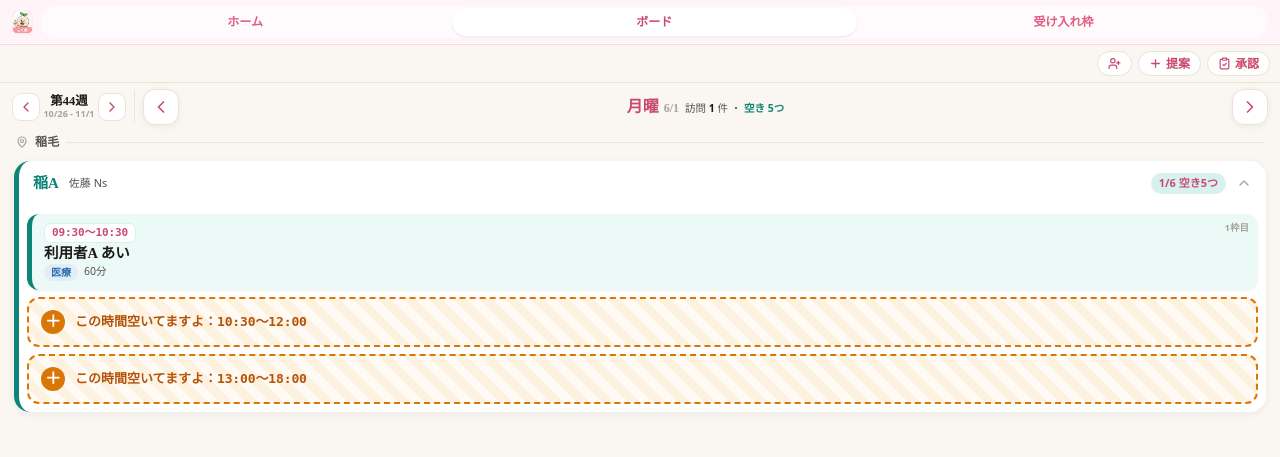
Test case: /m 現場ボード (実データ) › 「提案」ボタンで提案シートが開く
Click the button "提案". click: coordinates (1170, 64)
box: [1138,51,1201,76]
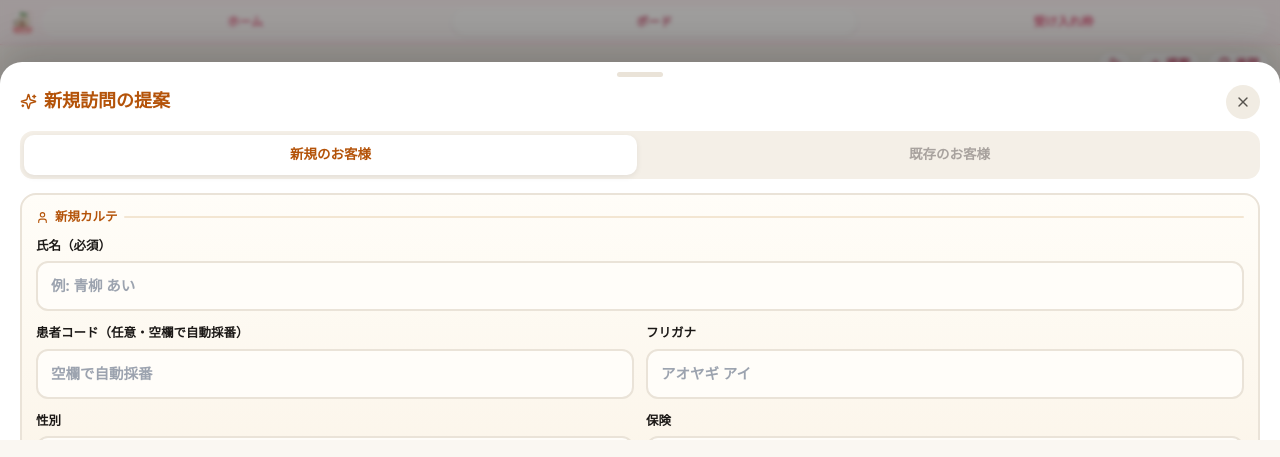
Check: the heading "新規訪問の提案" is shown, box [20,88,170,115]
